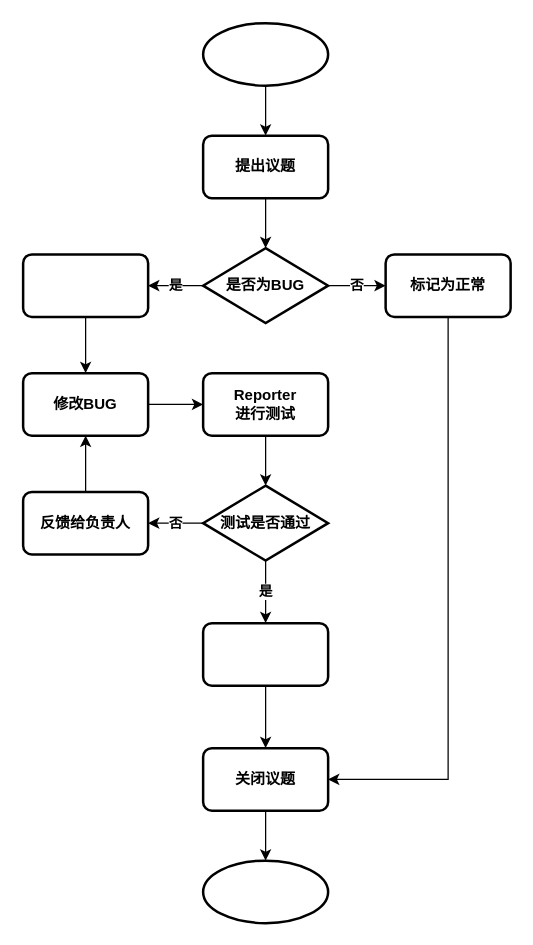
This 533x945 diagram has some shape labels left out. Here are the shapes that lost their labels. From the top down, the centre of each, then its label:
At (x=265, y=53): "发现BUG".
At (x=85, y=285): "标记为BUG 并Assign负责人".
At (x=265, y=653): "标记为正常 并做好相关记录".
At (x=265, y=891): "结束".
